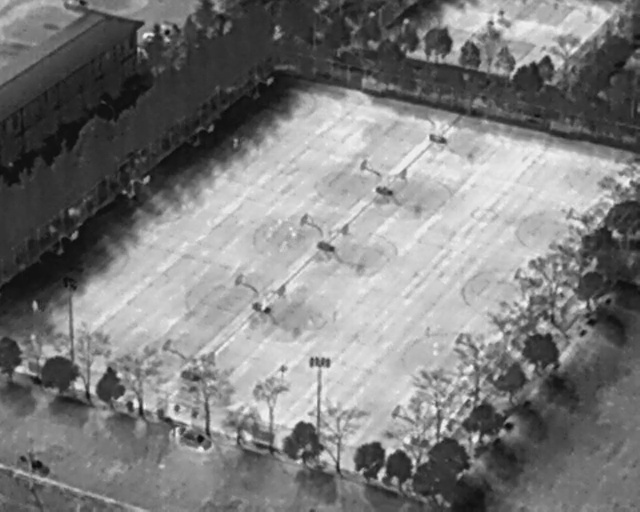Person: (32, 297, 39, 316), (233, 136, 239, 151)
